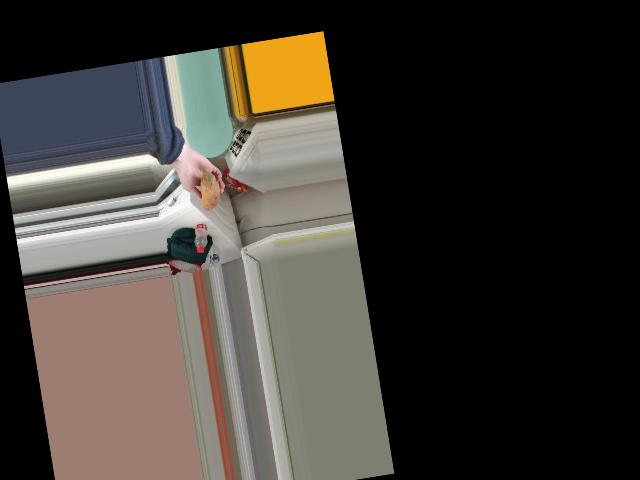sweet_potato: (193, 165, 220, 214)
